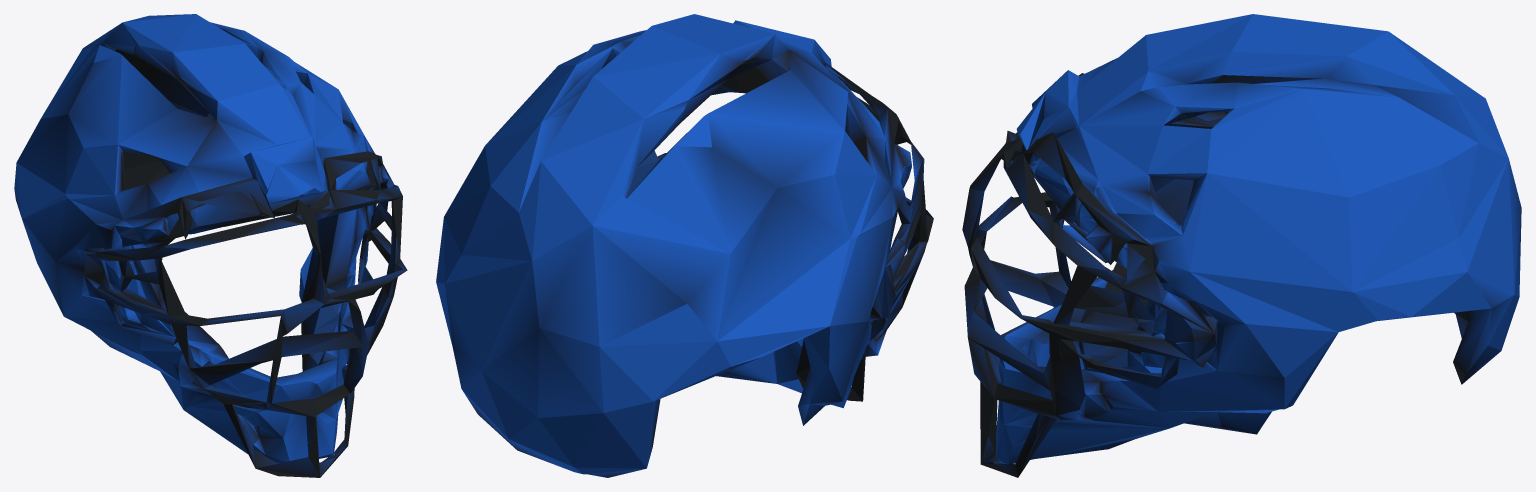
File: cmask.glb
3 views of the same model, side by side, from view 1: azimuth 30°, elevation 25°; view 2: azimuth 150°, elevation 25°; view 3: azimuth 270°, elevation 25° (orthographic). The views are drawn at different scales.
Bounding box in the file's own units: 1.44 × 1.6 × 1.89.
